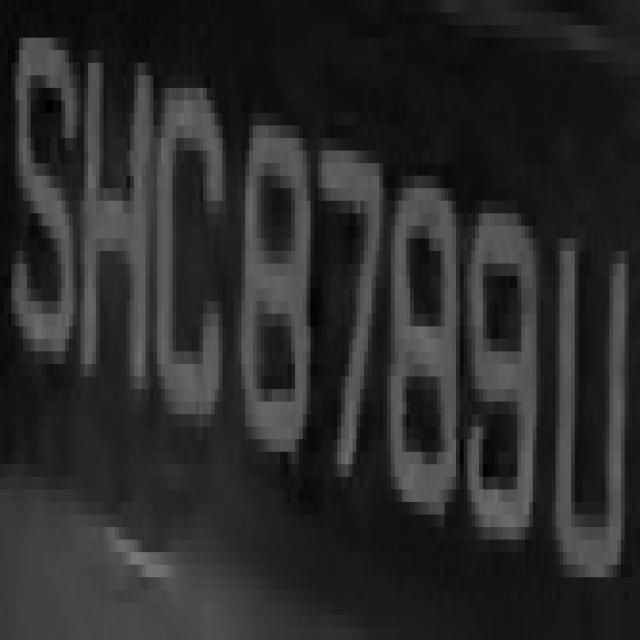7: (303, 75, 387, 527)
8: (226, 50, 318, 477), (376, 126, 464, 540)
9: (464, 150, 544, 602)
C: (146, 38, 226, 464)
H: (69, 12, 157, 426)
S: (11, 0, 80, 389)
U: (544, 163, 632, 602)
